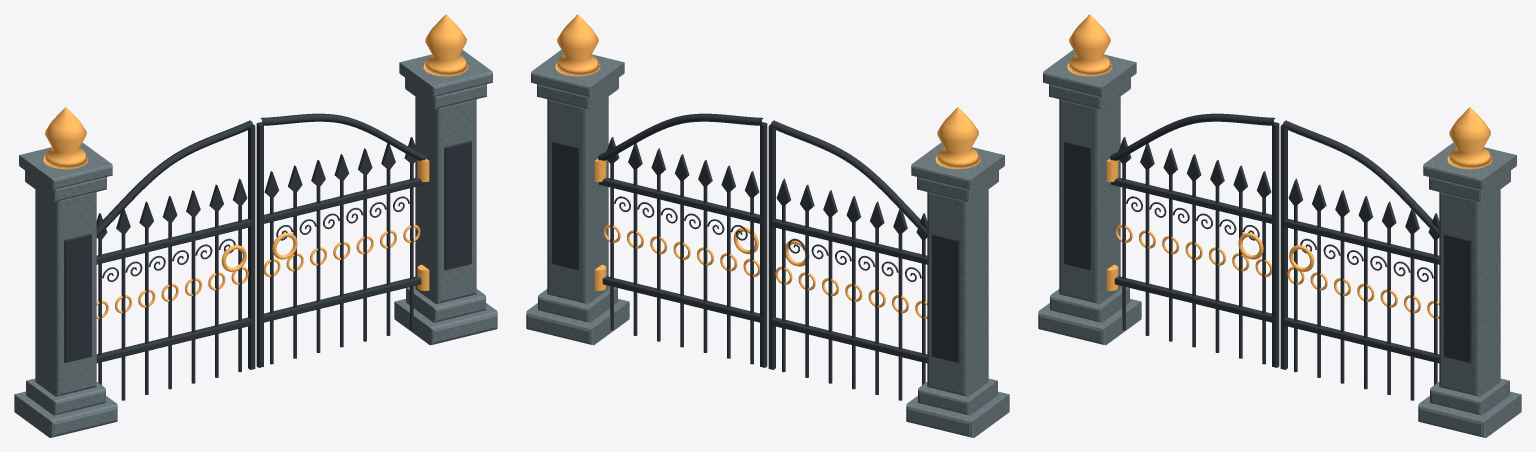
Rendered from hollowwick-halloween-hinged-moon-gate-51317ab6__21636.glb.
The picture shows the model from 3 angles, left to right: view 1: azimuth 30°, elevation 25°; view 2: azimuth 150°, elevation 25°; view 3: azimuth 330°, elevation 25°; orthographic projection.
Parts seen in each view (by area): view 1: hinged-moon-gate, left-gate-leaf-iron, right-gate-leaf-iron, right-gate-leaf-brass, left-gate-leaf-brass; view 2: hinged-moon-gate, left-gate-leaf-iron, right-gate-leaf-iron, right-gate-leaf-brass, left-gate-leaf-brass; view 3: hinged-moon-gate, right-gate-leaf-iron, left-gate-leaf-iron, left-gate-leaf-brass, right-gate-leaf-brass.
Boxes of the visible parts, <box> form: hinged-moon-gate: <box>14,14,497,437</box>; left-gate-leaf-iron: <box>96,120,255,400</box>; right-gate-leaf-iron: <box>256,113,426,367</box>; right-gate-leaf-brass: <box>264,224,420,276</box>; left-gate-leaf-brass: <box>96,245,248,318</box>; hinged-moon-gate: <box>526,14,1009,437</box>; left-gate-leaf-iron: <box>768,120,927,400</box>; right-gate-leaf-iron: <box>597,113,767,367</box>; right-gate-leaf-brass: <box>603,224,759,276</box>; left-gate-leaf-brass: <box>775,240,927,318</box>; hinged-moon-gate: <box>1038,14,1521,437</box>; right-gate-leaf-iron: <box>1280,120,1439,400</box>; left-gate-leaf-iron: <box>1109,113,1279,367</box>; left-gate-leaf-brass: <box>1115,224,1271,276</box>; right-gate-leaf-brass: <box>1287,245,1439,318</box>.
Bounding box in the file's own units: 3.18 × 2.11 × 0.4798.
3 materials, 1 textured.
